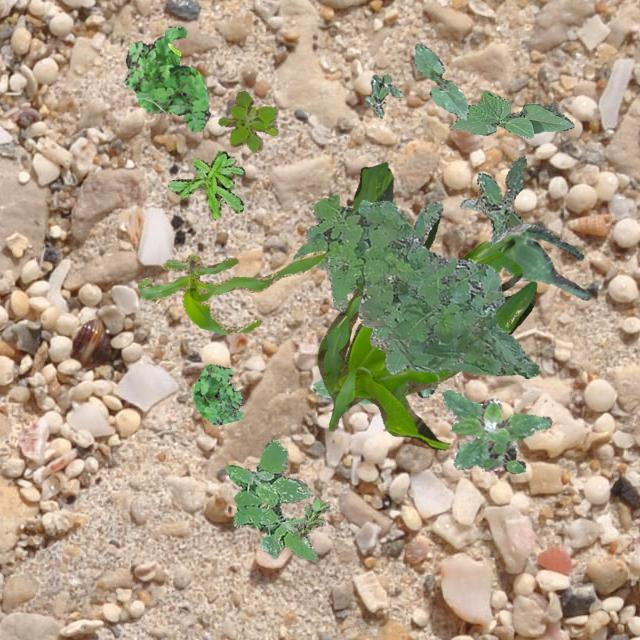crop: (316, 162, 536, 448), (137, 250, 326, 334), (492, 222, 590, 300), (448, 90, 572, 138), (412, 43, 468, 119), (311, 378, 371, 402), (403, 368, 435, 397)
weed: (292, 192, 538, 378), (225, 438, 316, 560), (440, 388, 550, 472), (124, 26, 208, 132), (460, 154, 526, 244), (166, 150, 244, 218), (218, 90, 278, 152), (190, 364, 242, 424), (364, 72, 402, 116), (292, 496, 330, 538)
